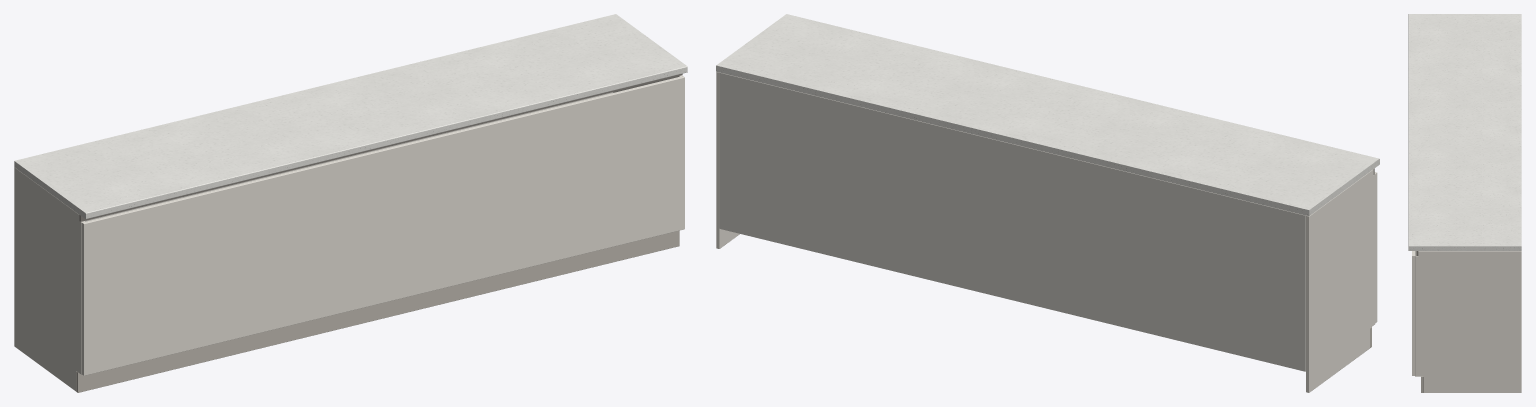
Rendered from dish_cabinet.glb.
The picture shows the model from 3 angles, left to right: view 1: azimuth 30°, elevation 25°; view 2: azimuth 150°, elevation 25°; view 3: azimuth 270°, elevation 25°; orthographic projection. The views are drawn at different scales.
Parts seen in each view (by area): view 1: dish_cabinet_fronts, dish_cabinet_countertop, dish_cabinet_carcass, dish_cabinet_gola; view 2: dish_cabinet_carcass, dish_cabinet_countertop; view 3: dish_cabinet_countertop, dish_cabinet_carcass, dish_cabinet_fronts.
Boxes of the visible parts, x1,y1,x2,y2 form: dish_cabinet_fronts: [82, 76, 684, 375]; dish_cabinet_countertop: [14, 14, 687, 219]; dish_cabinet_carcass: [14, 75, 682, 392]; dish_cabinet_gola: [79, 73, 682, 221]; dish_cabinet_carcass: [716, 71, 1375, 392]; dish_cabinet_countertop: [716, 14, 1379, 215]; dish_cabinet_countertop: [1408, 14, 1521, 250]; dish_cabinet_carcass: [1415, 251, 1521, 392]; dish_cabinet_fronts: [1412, 251, 1414, 375].
Size of the model in its own units: 3.05 by 0.9 by 0.63.
Materials: 5 (1 with a texture image).
